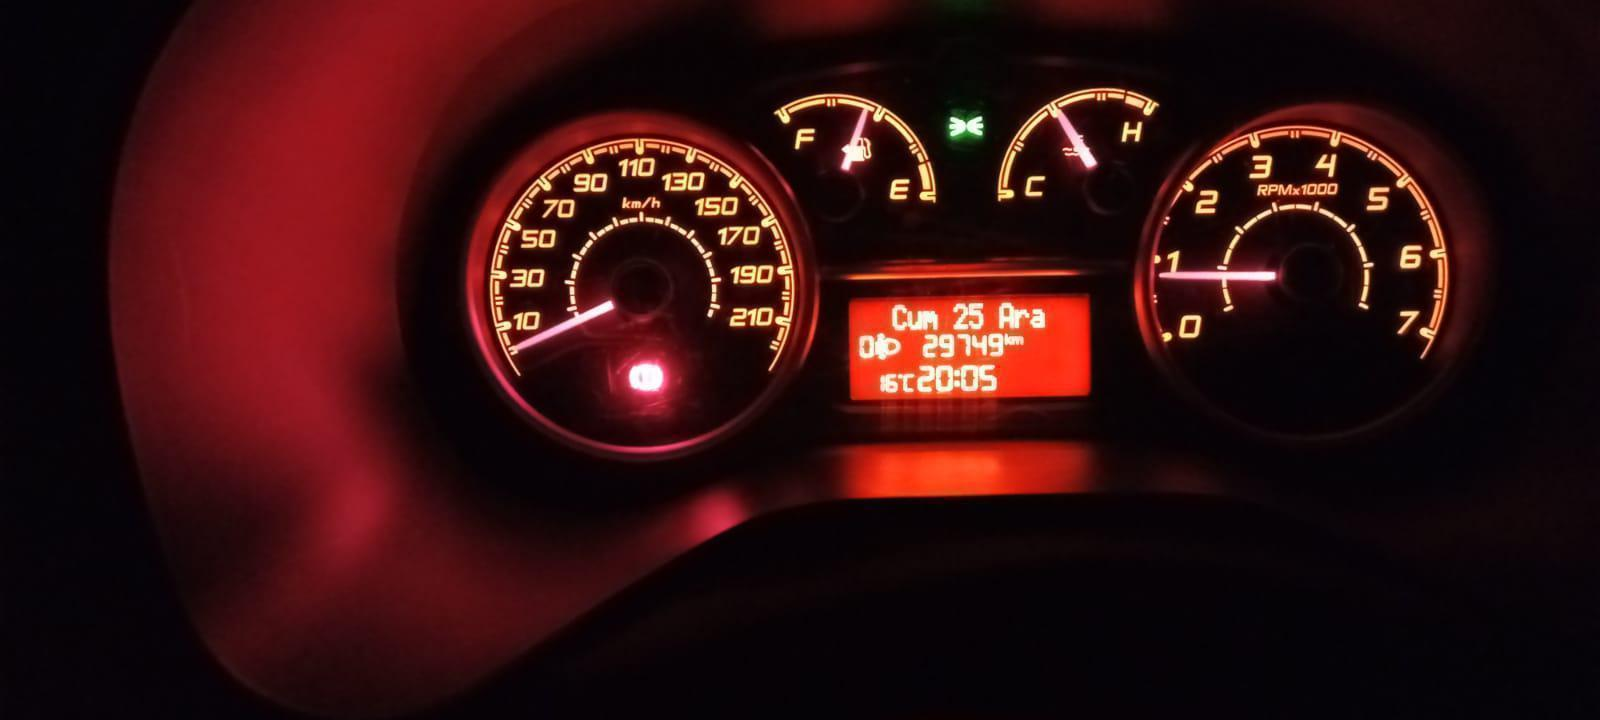0: (935, 364, 952, 392), (857, 333, 876, 359), (961, 364, 979, 391)
1: (879, 373, 885, 394)
2: (916, 364, 934, 393), (953, 302, 968, 330), (920, 333, 937, 357)
4: (972, 333, 987, 355)
5: (979, 363, 997, 391), (968, 302, 984, 329)
6: (885, 374, 897, 393)
7: (956, 332, 972, 356)
9: (938, 333, 955, 358), (987, 332, 1004, 356)
X: (998, 301, 1015, 328), (892, 303, 908, 330), (1030, 307, 1046, 327), (908, 309, 922, 330), (922, 309, 937, 330), (1015, 307, 1029, 329), (903, 372, 916, 392), (953, 368, 960, 389), (1013, 335, 1023, 345), (1004, 333, 1013, 344)
odometer: (844, 293, 1094, 399)
